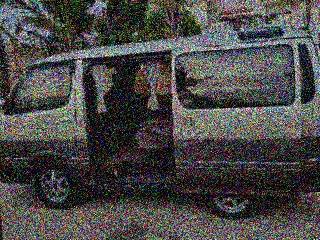van: (0, 24, 320, 236)
